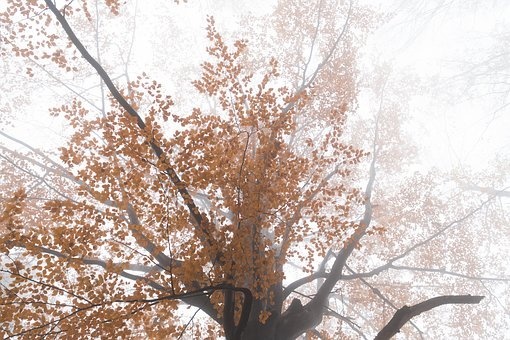tree: (61, 30, 432, 340)
